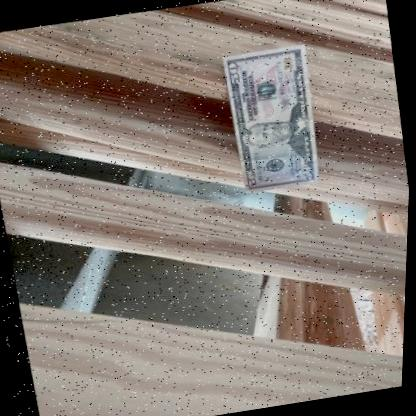fifty-front: (220, 41, 317, 191)
